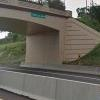Bridge: (1, 1, 84, 47)
